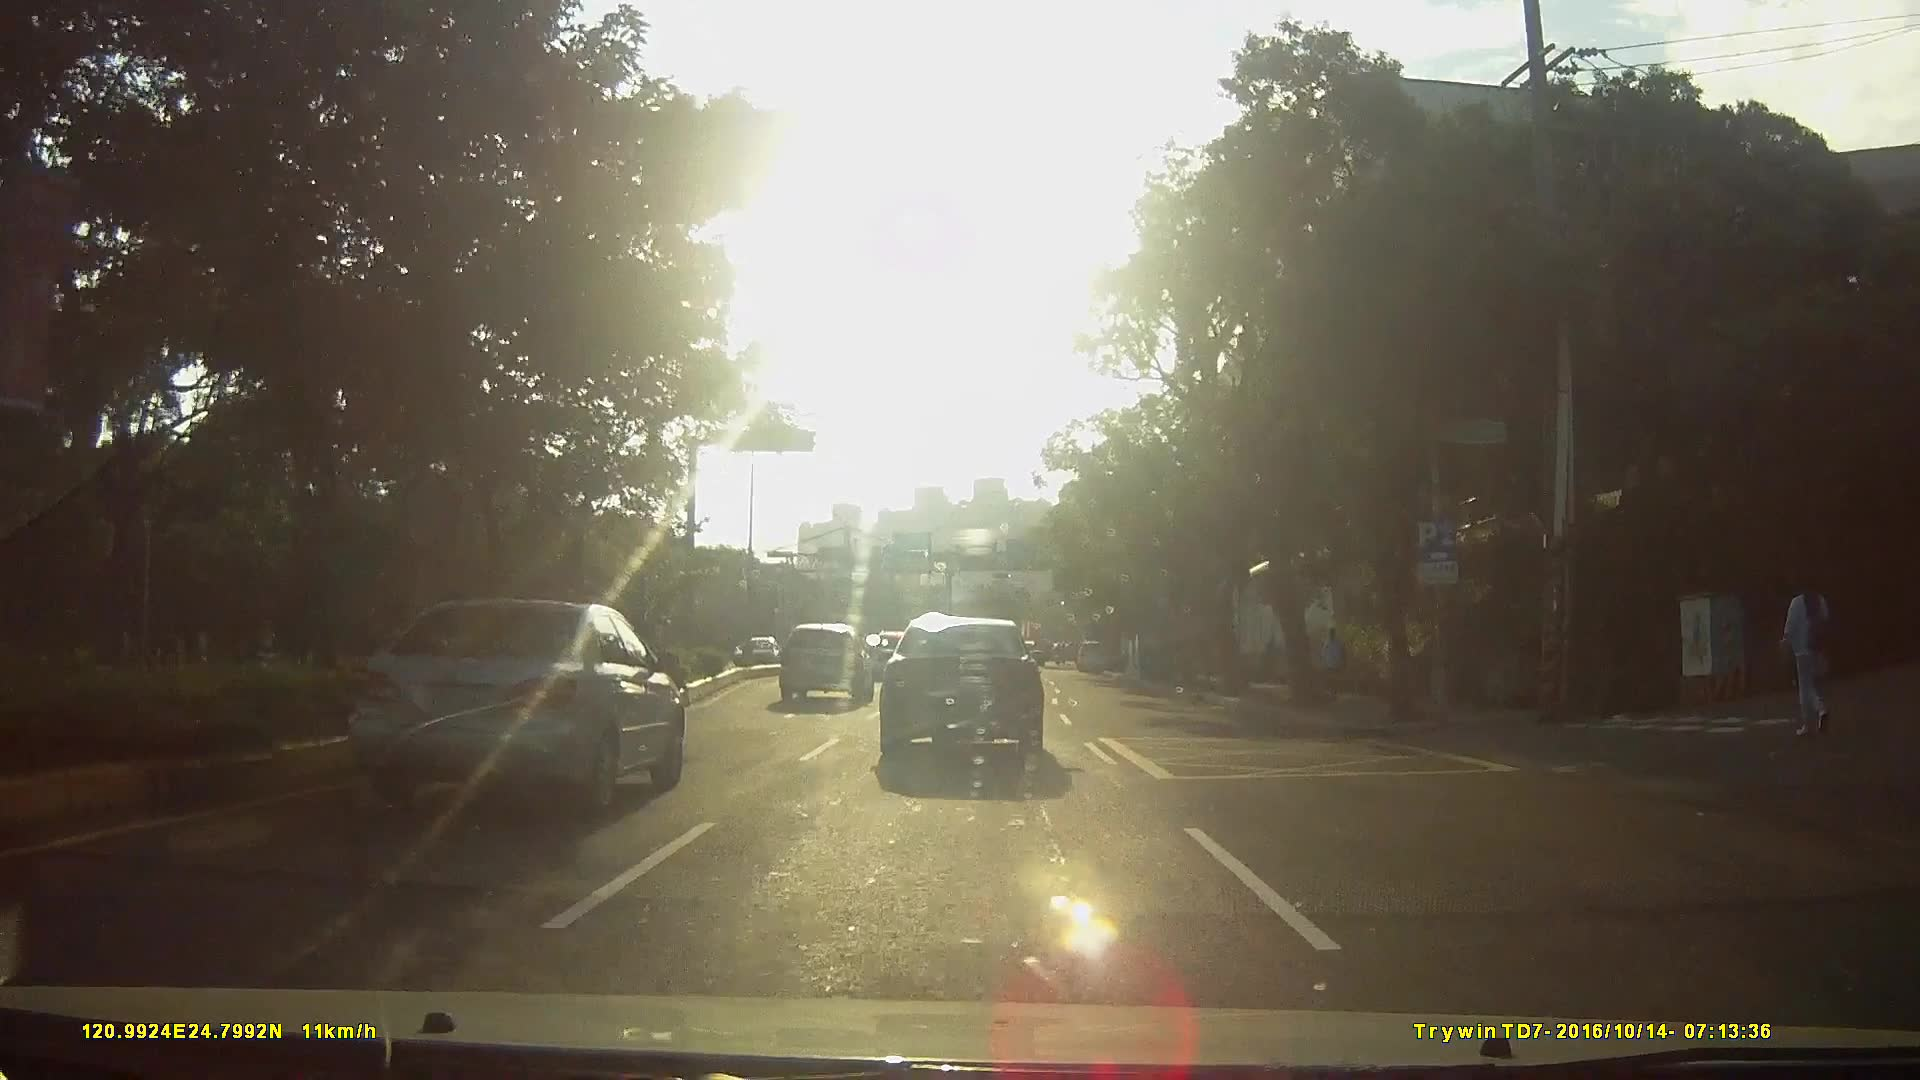pedestrian: (1781, 567, 1845, 742)
vehicle: (349, 594, 684, 809), (870, 619, 1059, 776), (774, 618, 873, 702), (720, 630, 772, 666), (1071, 636, 1107, 671)
